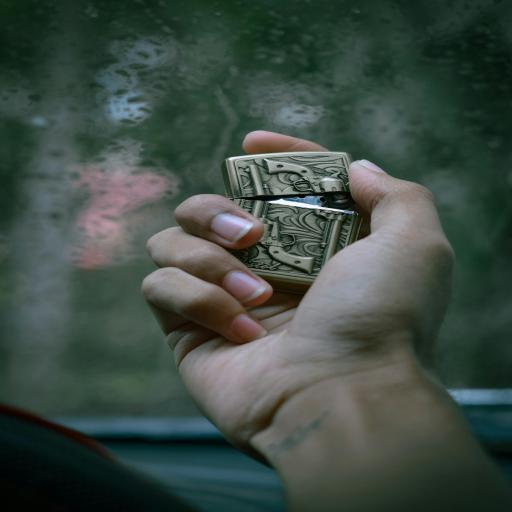lighter: (192, 133, 379, 297)
